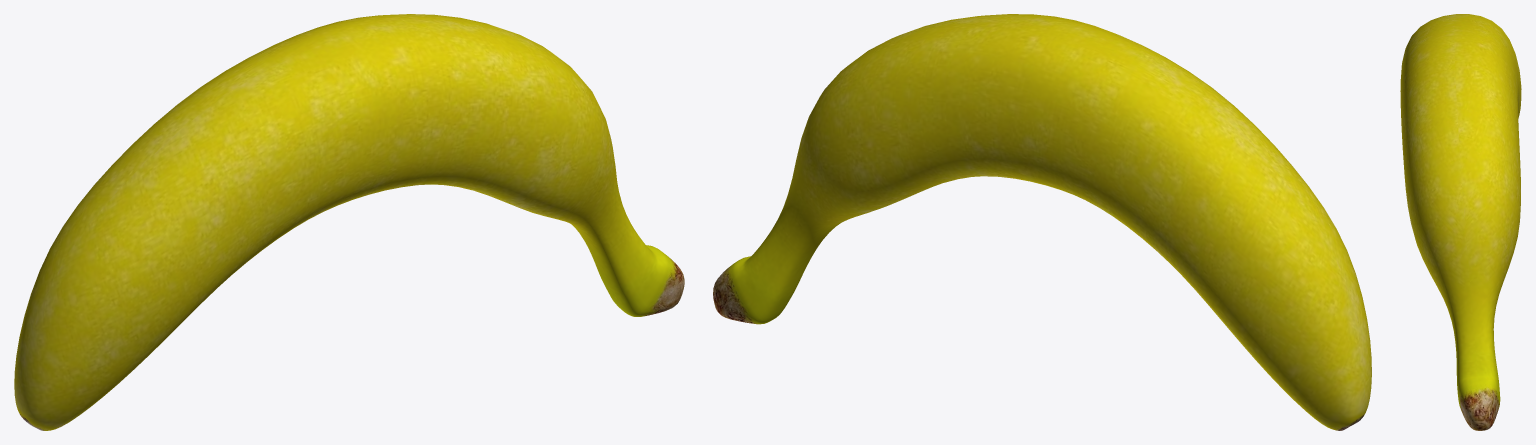
The model's file is YellowBananaExocarp.obj.
3 views of the same model, side by side, from view 1: azimuth 30°, elevation 25°; view 2: azimuth 150°, elevation 25°; view 3: azimuth 270°, elevation 25° (orthographic). The views are drawn at different scales.
Parts seen in each view (by area): view 1: YellowBananaExocarp; view 2: YellowBananaExocarp; view 3: YellowBananaExocarp.
Boxes of the visible parts, bbox=[...] form: YellowBananaExocarp: bbox=[14, 14, 684, 430]; YellowBananaExocarp: bbox=[713, 14, 1371, 430]; YellowBananaExocarp: bbox=[1400, 14, 1521, 430].
Size of the model in its own units: 0.2024 by 0.1062 by 0.0427.
Materials: 1 (1 with a texture image).
